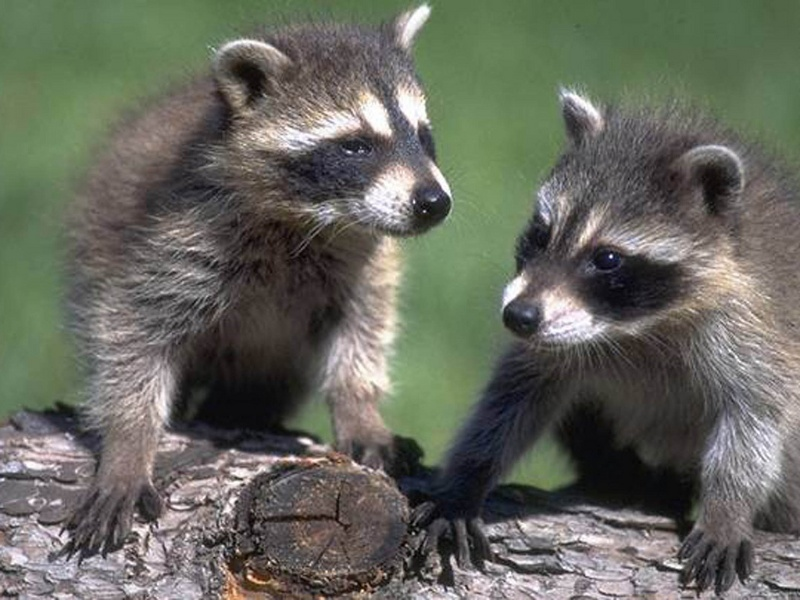raccoon: (51, 5, 457, 562), (419, 69, 788, 591)
